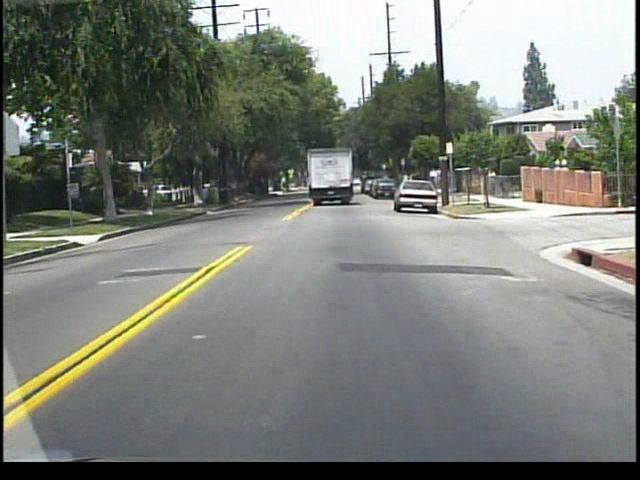person: (484, 166, 498, 198)
